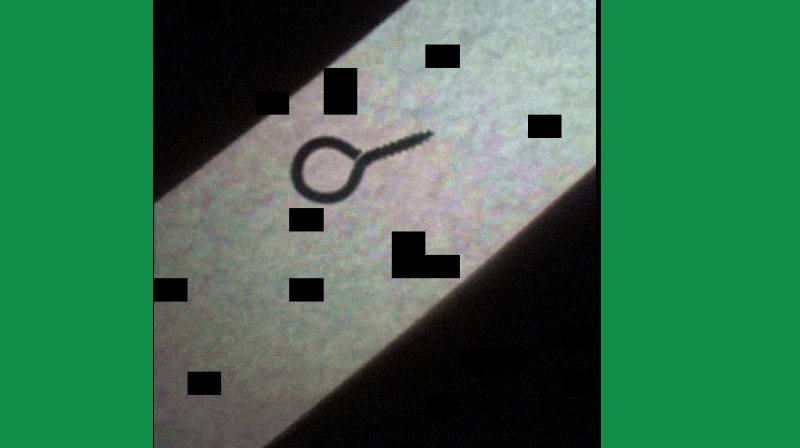O001: (286, 126, 436, 209)
